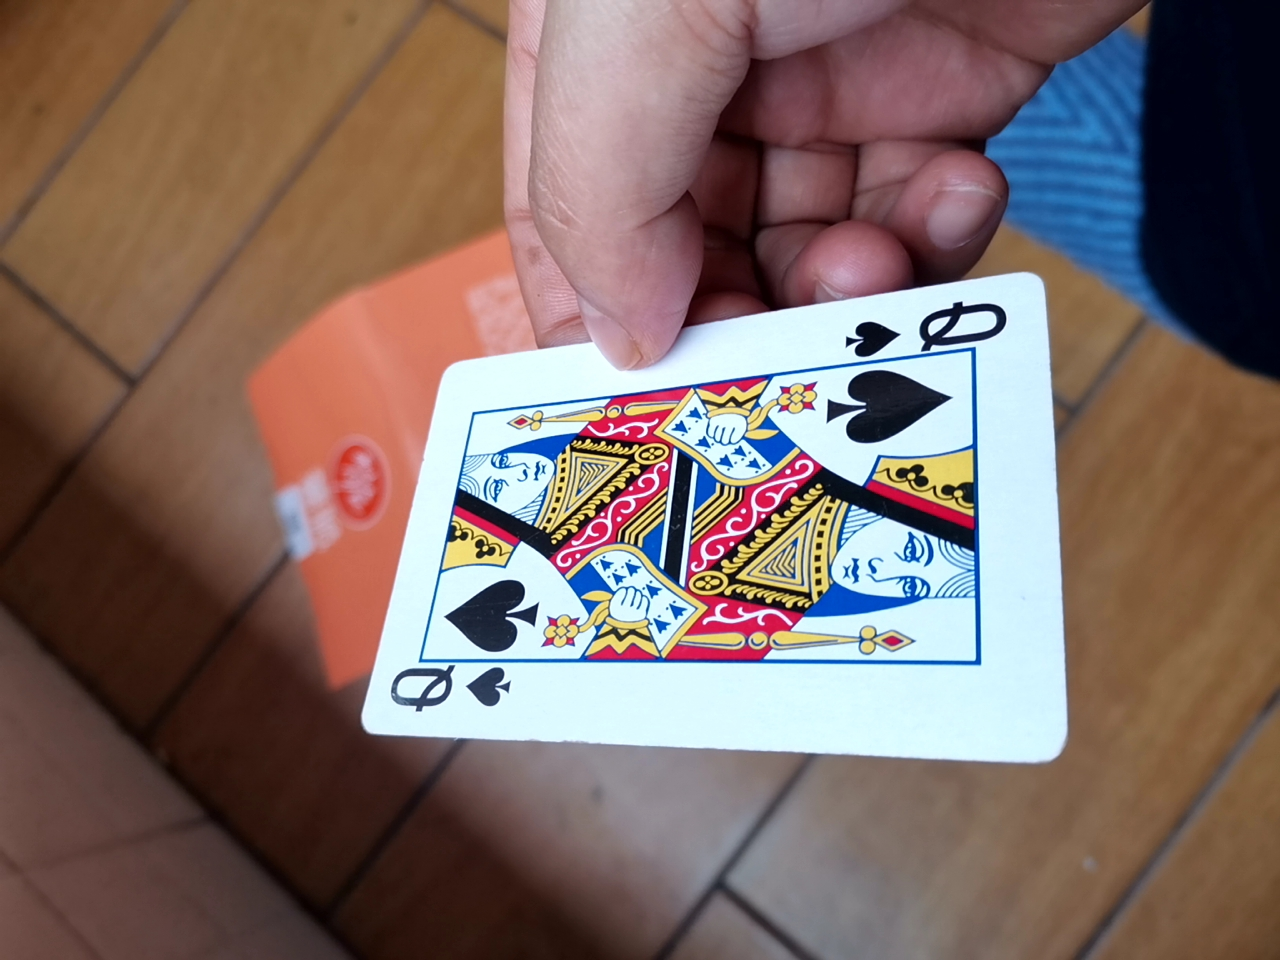ht q: (342, 276, 1066, 757)
